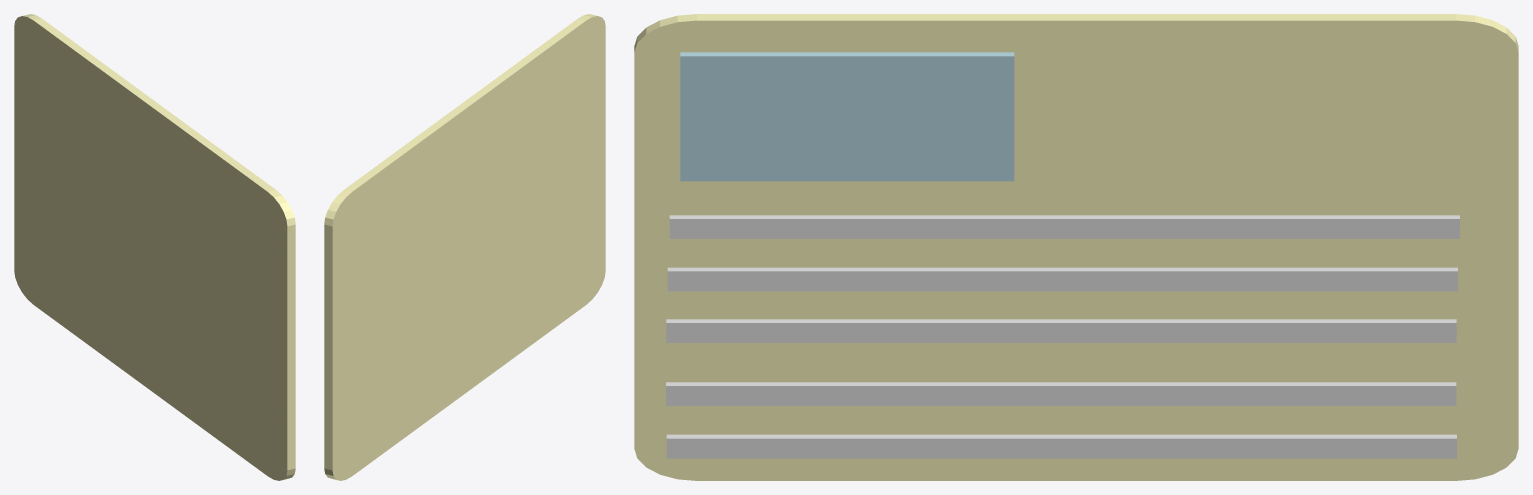
3 views of the same model, side by side, from view 1: azimuth 30°, elevation 25°; view 2: azimuth 150°, elevation 25°; view 3: azimuth 270°, elevation 25° (orthographic). The views are drawn at different scales.
Visible parts, largest first — view 1: Cube; view 2: Cube; view 3: Cube.
Boxes of the visible parts, <box> form: Cube: <box>14,14,295,480</box>; Cube: <box>324,14,605,480</box>; Cube: <box>634,14,1518,480</box>.
Bounding box in the file's own units: 16.77 × 333 × 580.
